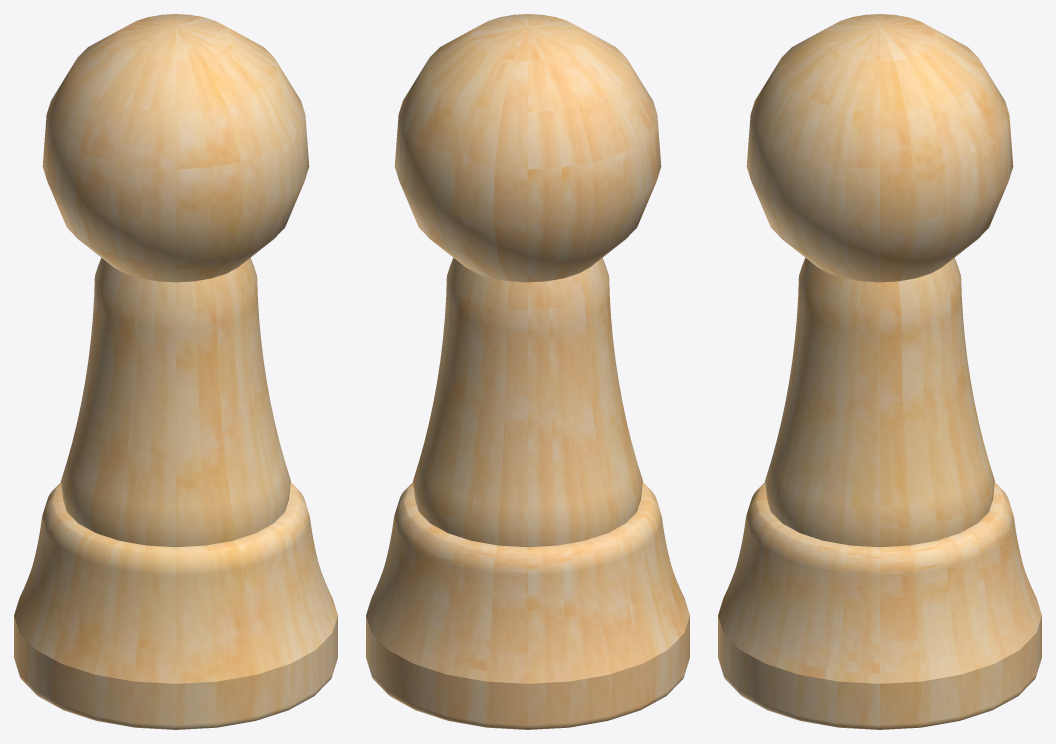
File: Pawn_w.dae
3 renders of one model, left to right at view 1: azimuth 30°, elevation 25°; view 2: azimuth 150°, elevation 25°; view 3: azimuth 270°, elevation 25°, orthographic.
Parts seen in each view (by area): view 1: SketchUp; view 2: SketchUp; view 3: SketchUp.
Part boxes in pixels (<box>): SketchUp: <box>14,14,337,729</box>; SketchUp: <box>366,14,689,729</box>; SketchUp: <box>718,14,1041,729</box>.
Bounding box in the file's own units: 17.95 × 17.95 × 38.89.
Materials: 1 (1 with a texture image).
